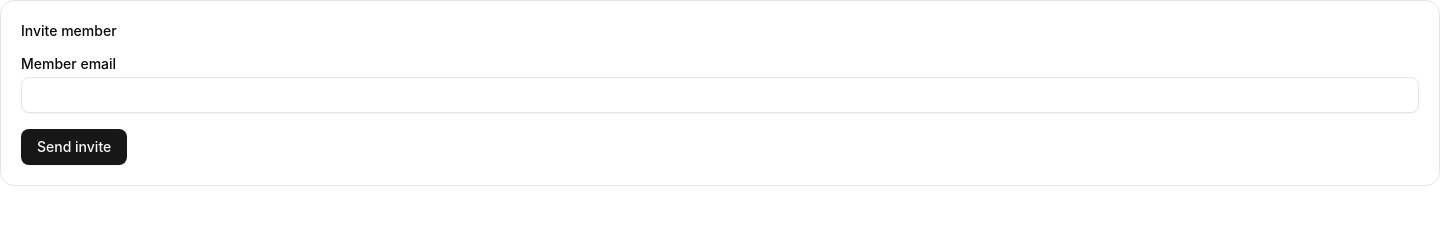
Test: InviteMemberForm › invites the email to the active workspace and confirms it
The image size is (1440, 239).
Type "invitee@example.com" into the field labelled "Member email" at point(720, 95), box [21, 77, 1419, 113]
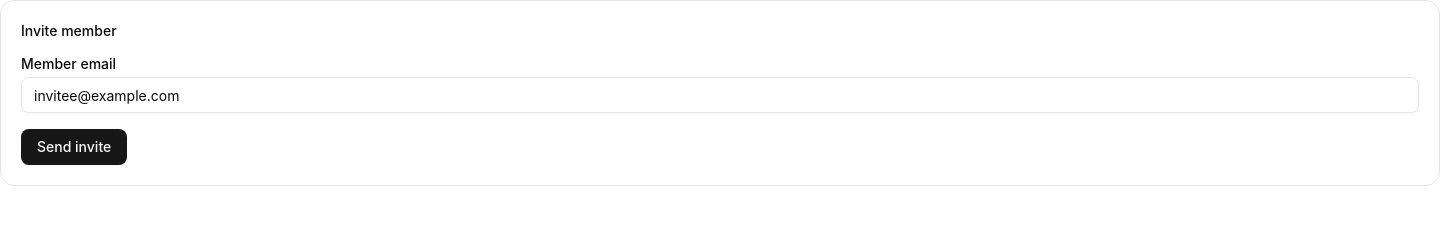
Click the button "Send invite" at point(74, 147), box [21, 129, 127, 165]
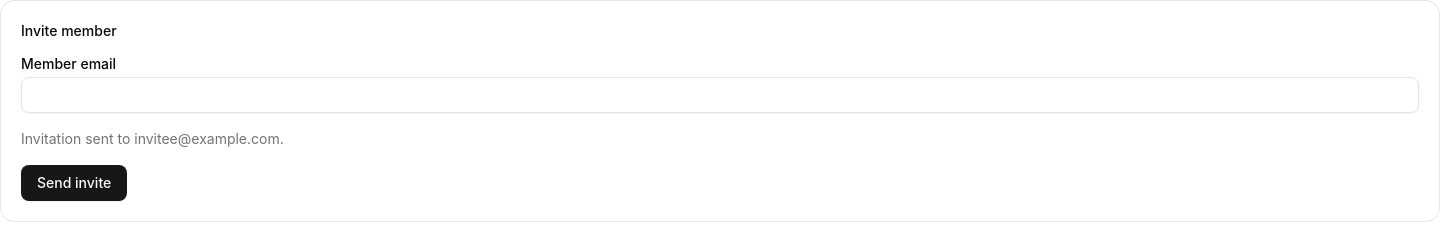
Now the message reads "Invitation sent to invitee@example.com.", box [21, 130, 284, 147]
